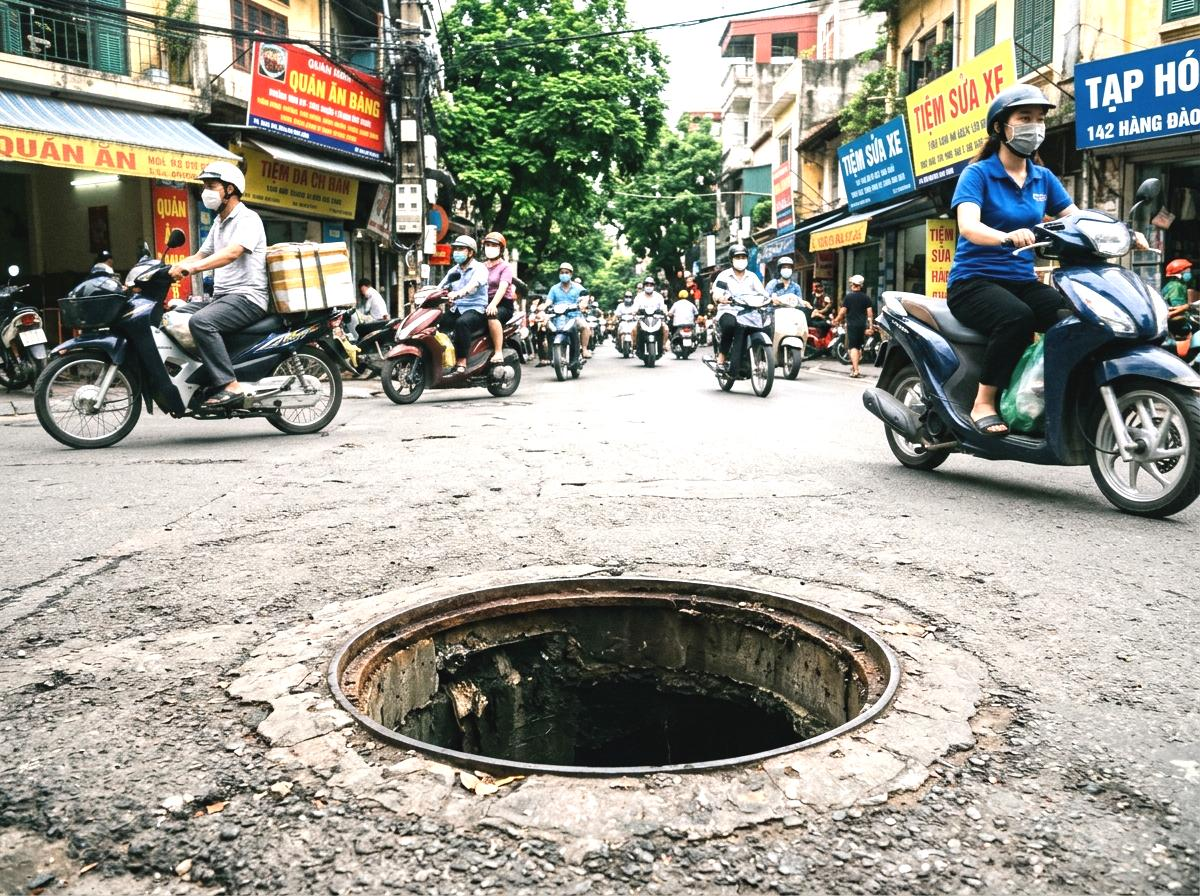POTHOLE: (408, 457, 840, 762)
